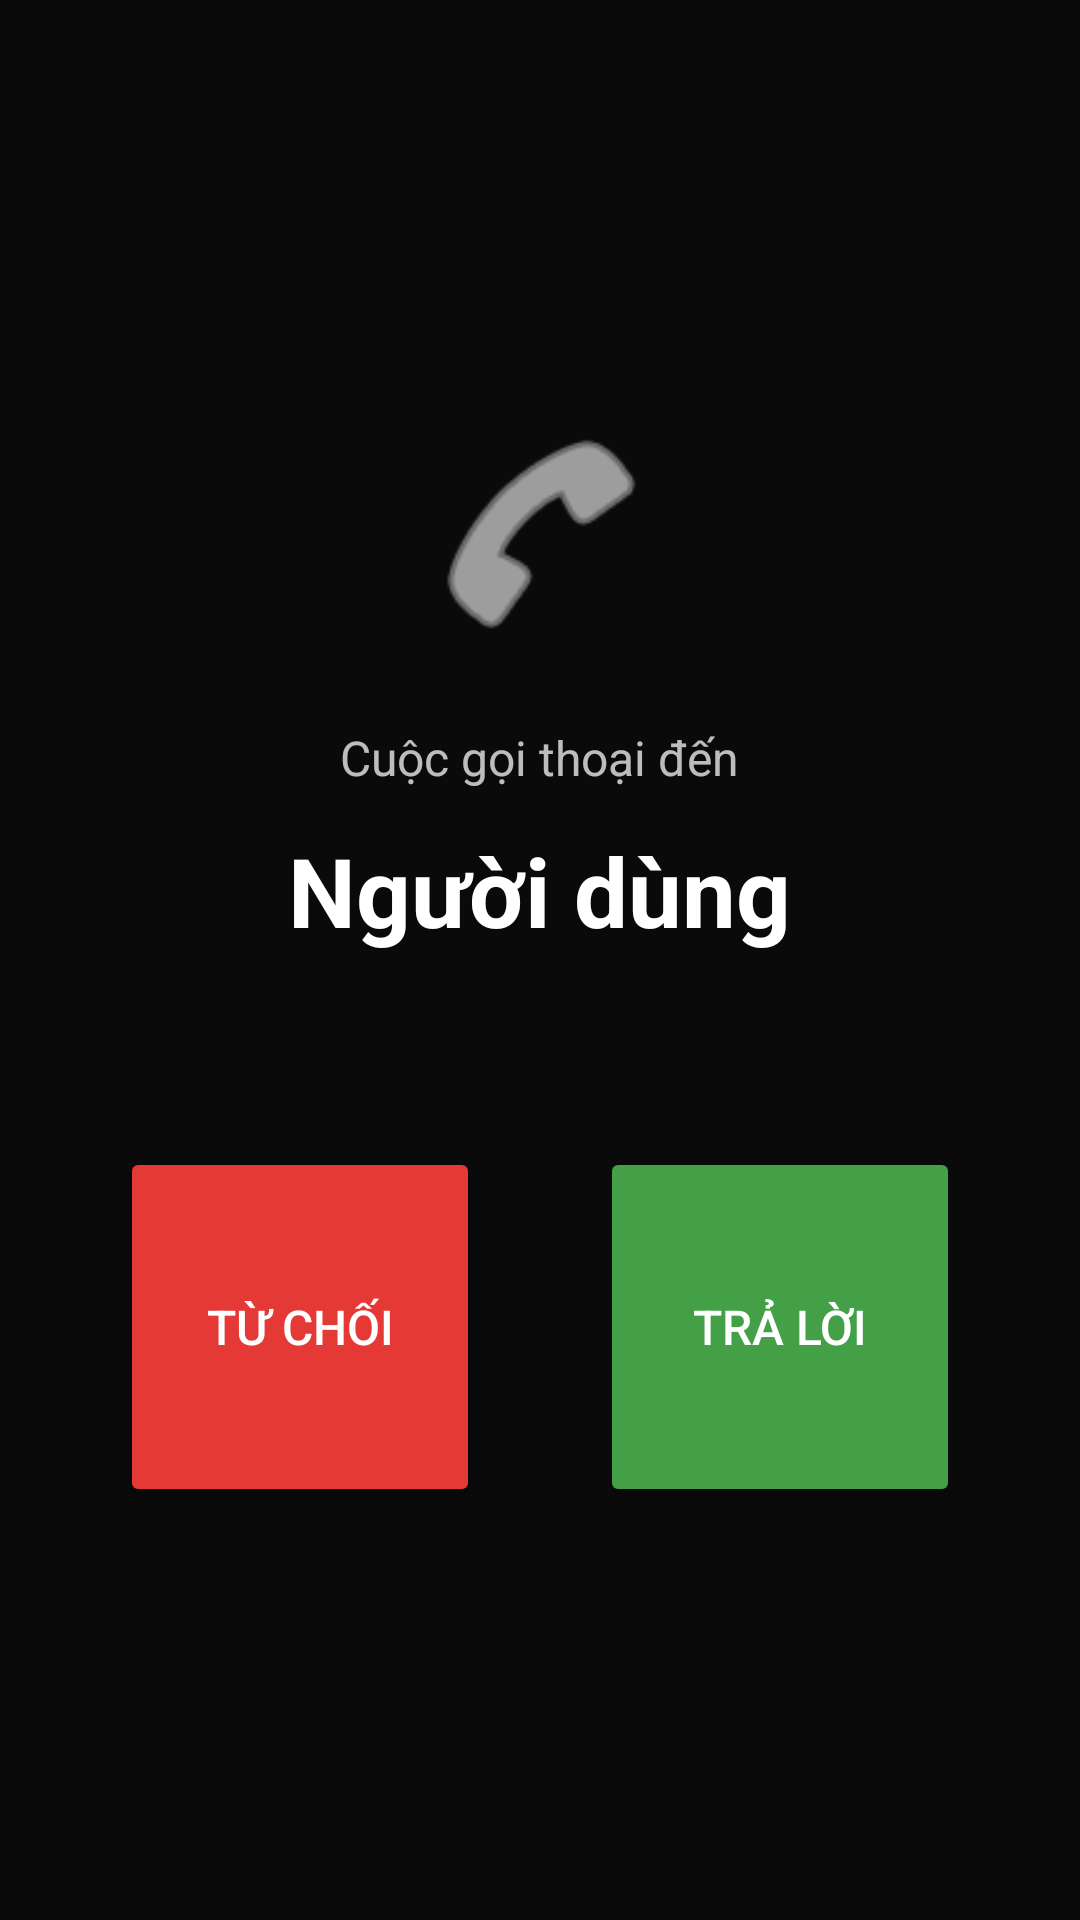

Named icons in this screenshot (1080px x 1920px) and their bounding boxes, detection(x1, y1, x2, y2):
call: detection(447, 440, 635, 628)
